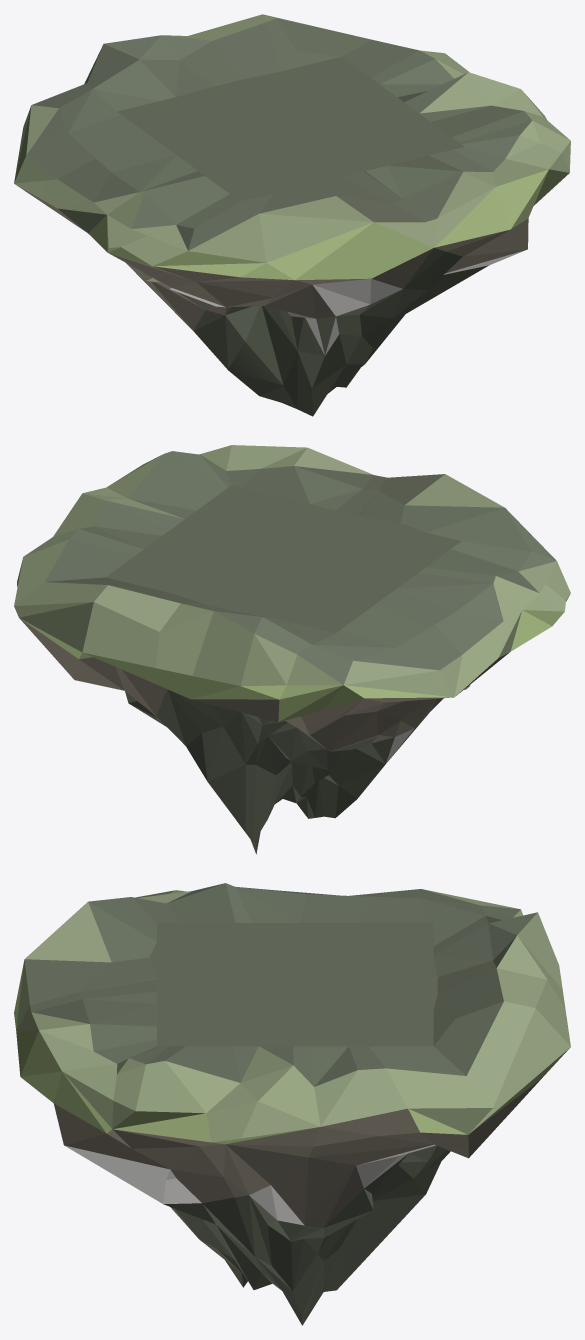
Rendered from WithoutTile.fbx.
3 renders of one model, top to bottom at view 1: azimuth 30°, elevation 25°; view 2: azimuth 150°, elevation 25°; view 3: azimuth 270°, elevation 25°, orthographic. The views are drawn at different scales.
Visible parts, largest first — view 1: Island; view 2: Island; view 3: Island.
Part boxes in pixels (left/top/right/bottom): Island: left=14, top=14, right=570, bottom=416; Island: left=14, top=445, right=570, bottom=854; Island: left=14, top=883, right=570, bottom=1325.
Size of the model in its own units: 3972 by 2662 by 3720.
